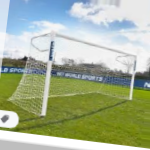goals: (15, 29, 141, 119)
